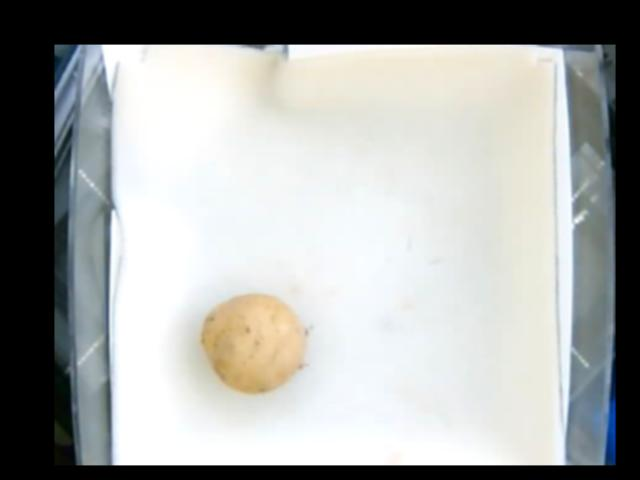Potato: (203, 290, 308, 395)
